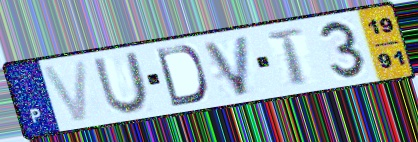3: (318, 17, 369, 84)
D: (154, 43, 209, 109)
T: (264, 26, 311, 88)
U: (91, 50, 152, 116)
V: (39, 57, 91, 125), (200, 32, 252, 98)
